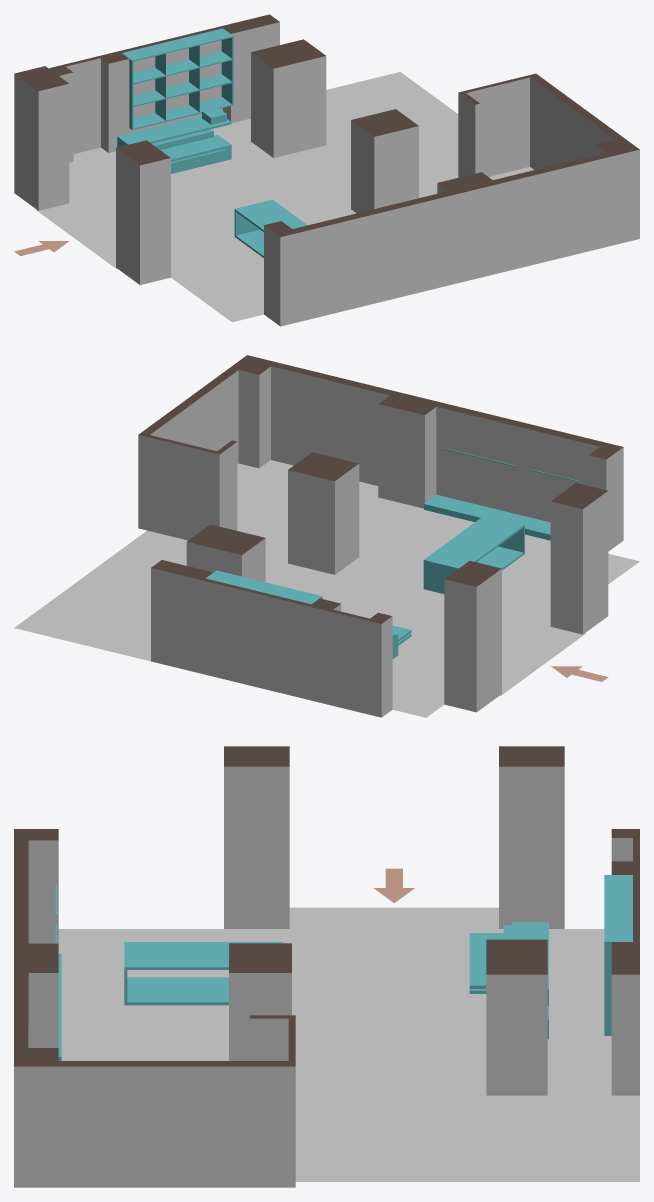
Rendered from Room_zegna.fbx.
3 views of the same model, one above another, from view 1: azimuth 30°, elevation 25°; view 2: azimuth 150°, elevation 25°; view 3: azimuth 270°, elevation 25° (orthographic). The views are drawn at different scales.
Visible parts, largest first — view 1: boxmodel, Pavimento, Colonne ingresso, Scaffale molto di design, SLG Table, Concept Table; view 2: boxmodel, Pavimento, Colonne ingresso, Concept Table, Mensola molto di design, Scaffale molto di design; view 3: Pavimento, boxmodel, Colonne ingresso, Concept Table, Scaffale molto di design, SLG Table, Ingresso.
Part boxes in pixels (x1=…): boxmodel: x1=49, y1=14, x2=639, y2=326; Pavimento: x1=36, y1=72, x2=533, y2=322; Colonne ingresso: x1=14, y1=66, x2=170, y2=284; Scaffale molto di design: x1=122, y1=28, x2=233, y2=129; SLG Table: x1=117, y1=107, x2=231, y2=173; Concept Table: x1=234, y1=199, x2=307, y2=257; boxmodel: x1=138, y1=355, x2=623, y2=717; Pavimento: x1=14, y1=460, x2=639, y2=717; Colonne ingresso: x1=444, y1=483, x2=608, y2=712; Concept Table: x1=423, y1=515, x2=524, y2=593; Mensola molto di design: x1=424, y1=494, x2=550, y2=540; Scaffale molto di design: x1=205, y1=570, x2=322, y2=604; Pavimento: x1=58, y1=907, x2=639, y2=1181; boxmodel: x1=14, y1=829, x2=639, y2=1187; Colonne ingresso: x1=224, y1=746, x2=564, y2=928; Concept Table: x1=124, y1=942, x2=283, y2=1005; Scaffale molto di design: x1=604, y1=875, x2=632, y2=1035; SLG Table: x1=469, y1=922, x2=548, y2=1039; Ingresso: x1=373, y1=868, x2=414, y2=903.
Bounding box in the file's own units: 1266 × 301 × 1050.
